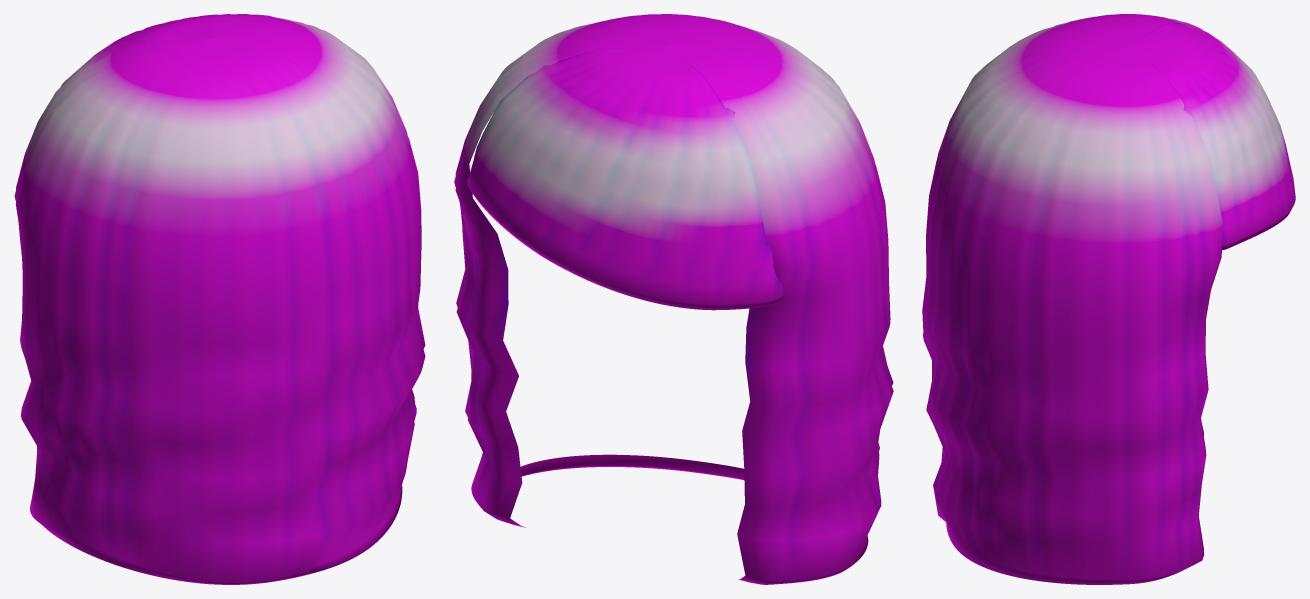
Rendered from long.glb.
3 renders of one model, left to right at view 1: azimuth 30°, elevation 25°; view 2: azimuth 150°, elevation 25°; view 3: azimuth 270°, elevation 25°, orthographic. The views are drawn at different scales.
Visible parts, largest first — view 1: long; view 2: long; view 3: long.
Boxes of the visible parts, box(x1,y1,x2,y2) form: long: box(14, 14, 425, 584); long: box(454, 14, 893, 584); long: box(922, 14, 1295, 584).
Size of the model in its own units: 1.09 by 1.33 by 0.9359.
